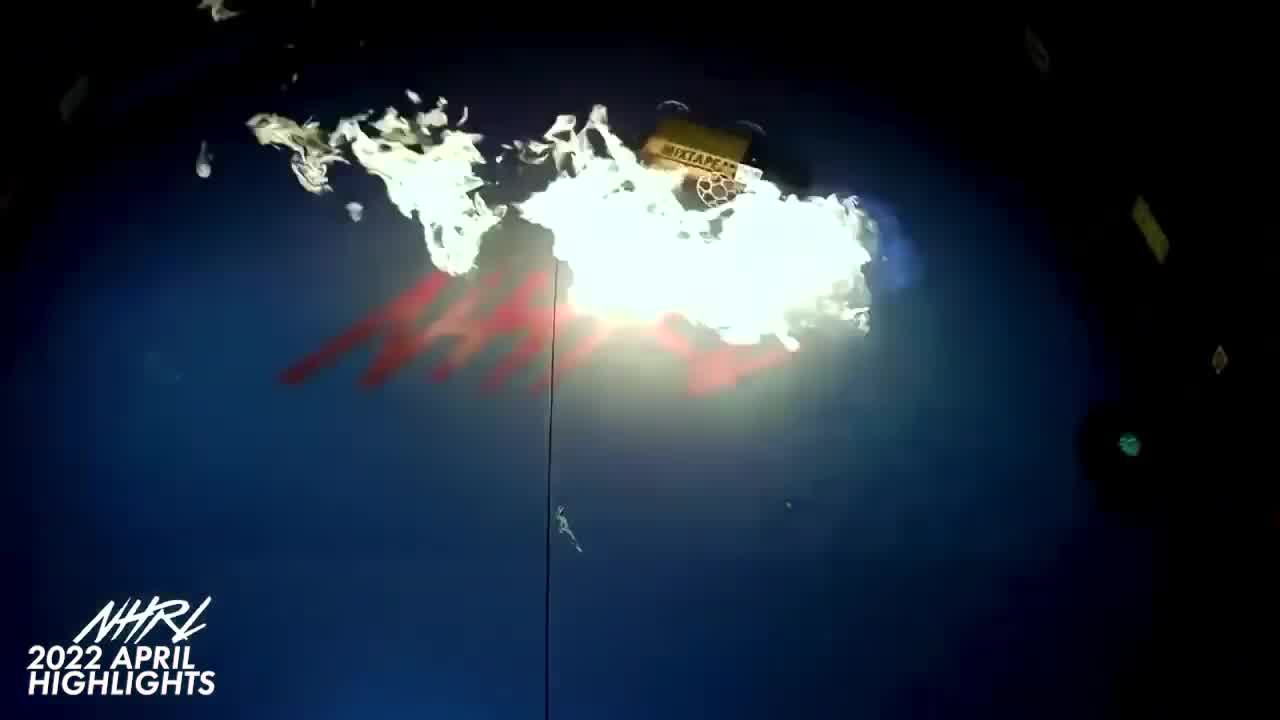combatbot: (639, 92, 763, 210)
